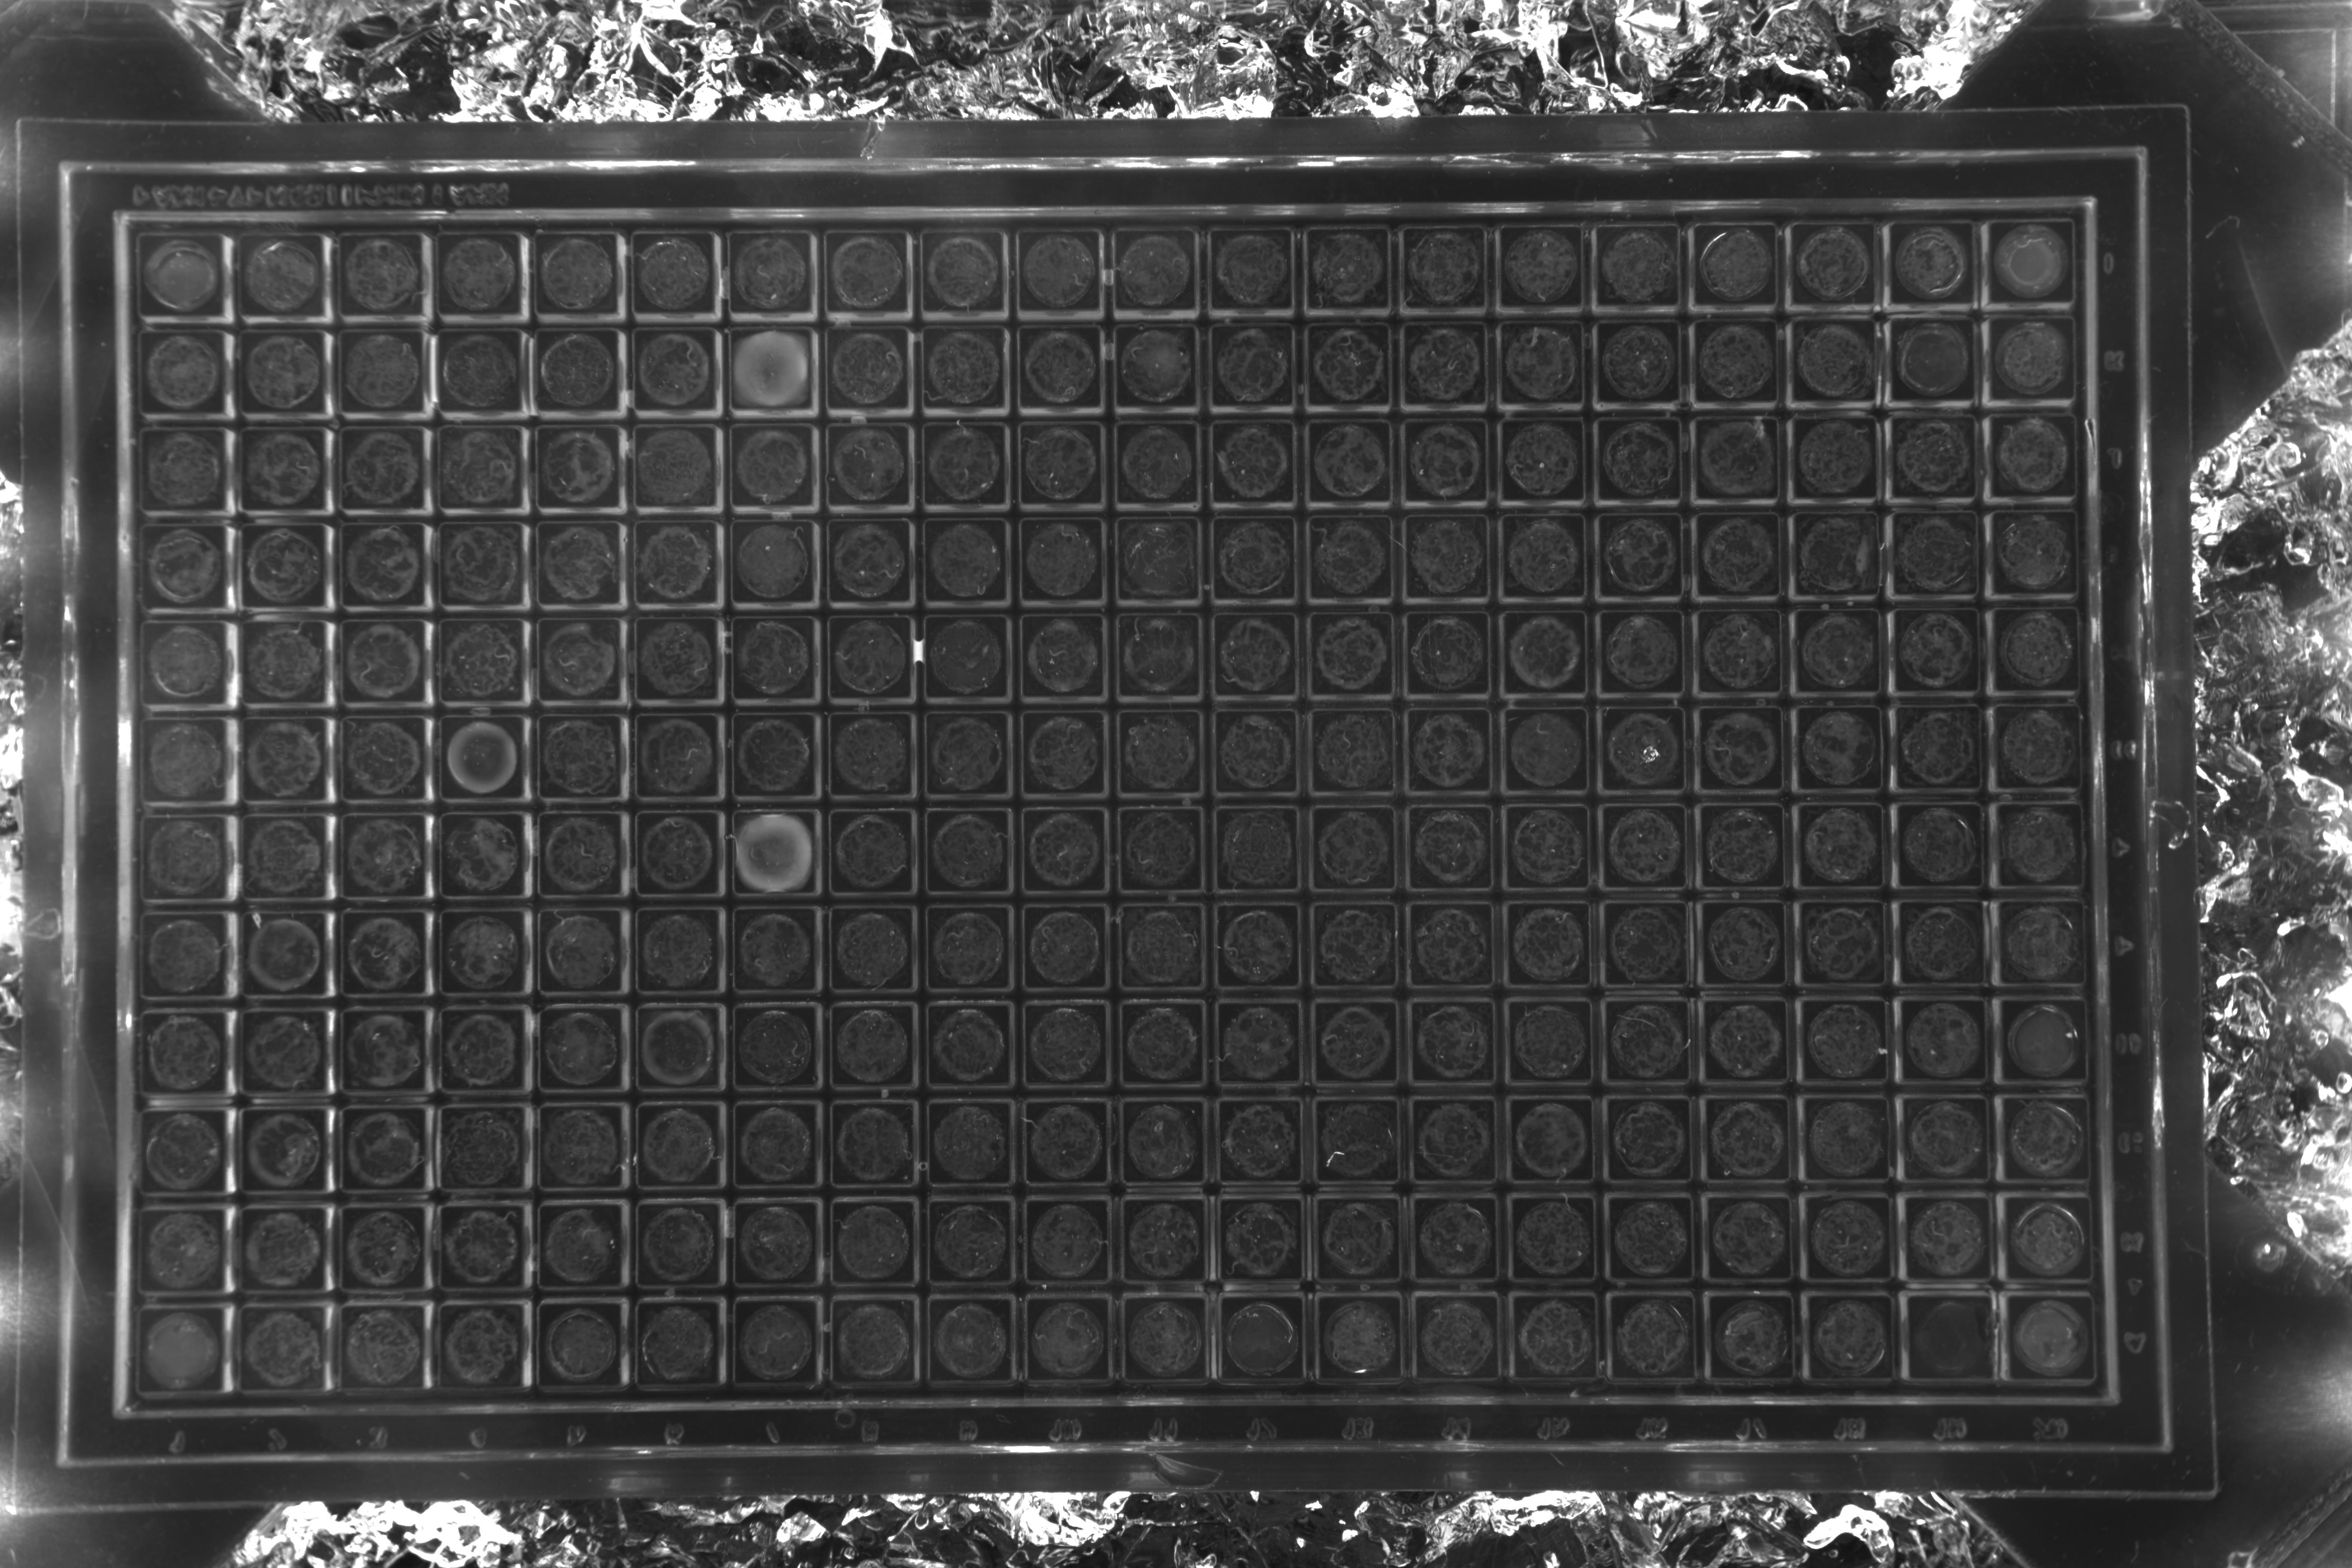WM_well: (297, 945, 387, 1032), (595, 460, 684, 548), (789, 364, 878, 451), (191, 1342, 278, 1430), (192, 1242, 280, 1330), (593, 847, 681, 934), (686, 1241, 773, 1328), (693, 460, 780, 548), (887, 558, 975, 646), (983, 850, 1071, 938), (1078, 1141, 1165, 1228), (1176, 947, 1263, 1034), (1368, 464, 1456, 551), (1372, 1340, 1459, 1428), (1465, 367, 1552, 455), (1466, 754, 1554, 842), (1466, 850, 1554, 938), (1468, 948, 1556, 1036), (1662, 656, 1750, 744), (1759, 366, 1846, 453), (1956, 366, 2044, 453), (1962, 1052, 2049, 1139), (2063, 1253, 2151, 1340)
